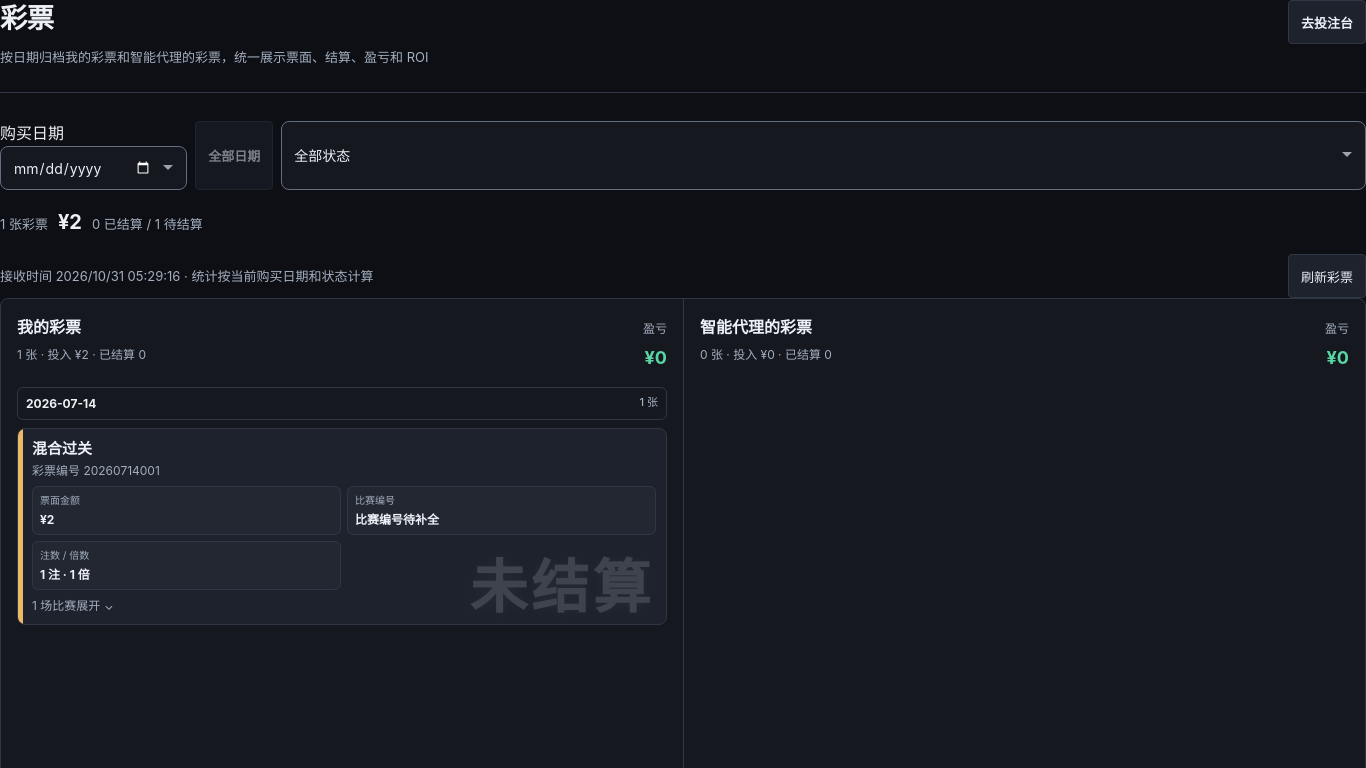
TicketsPage query evidence › 新筛选失败不显示旧票或旧游标且不误报暂无彩票
Select "赢" in the dropdown named "彩票状态" at coordinates (824, 155), box [281,121,1365,190]
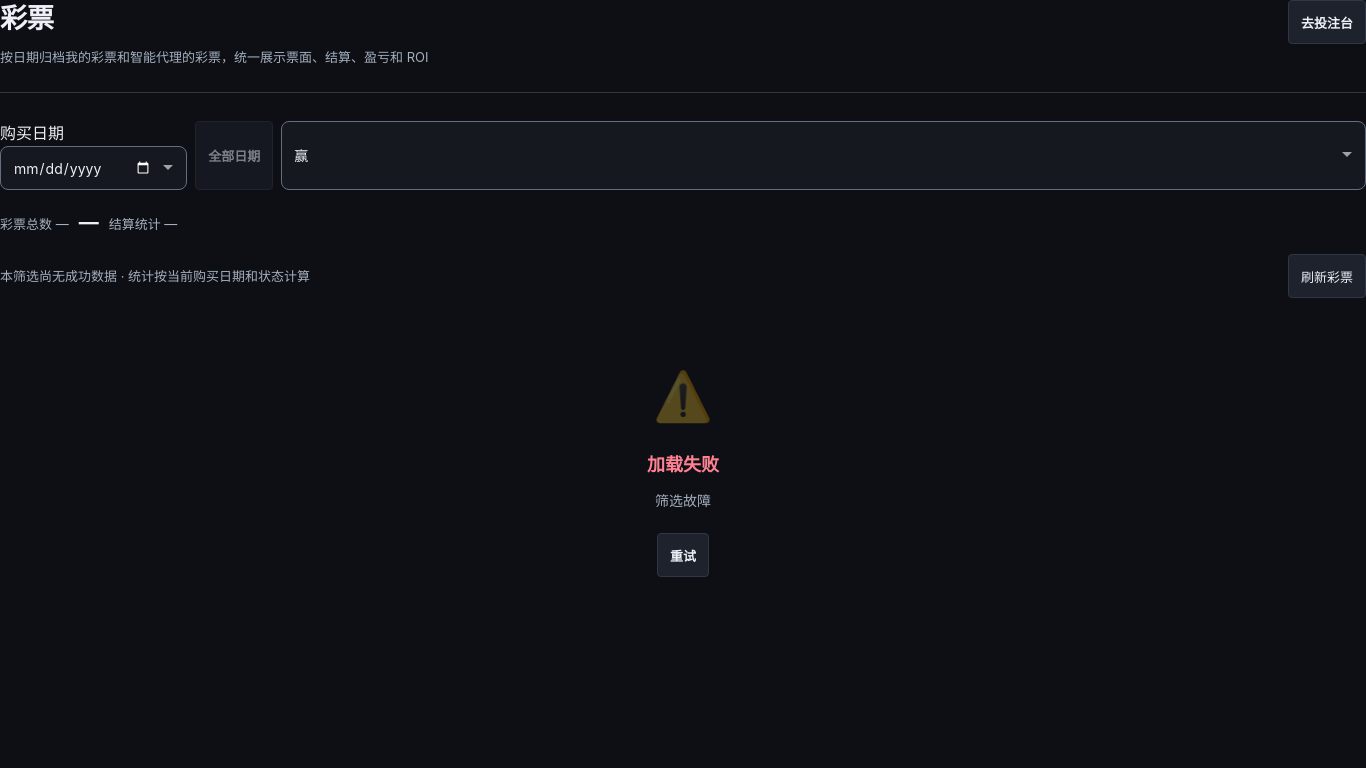
Check: the text "筛选故障" is shown, box [655,488,711,513]
